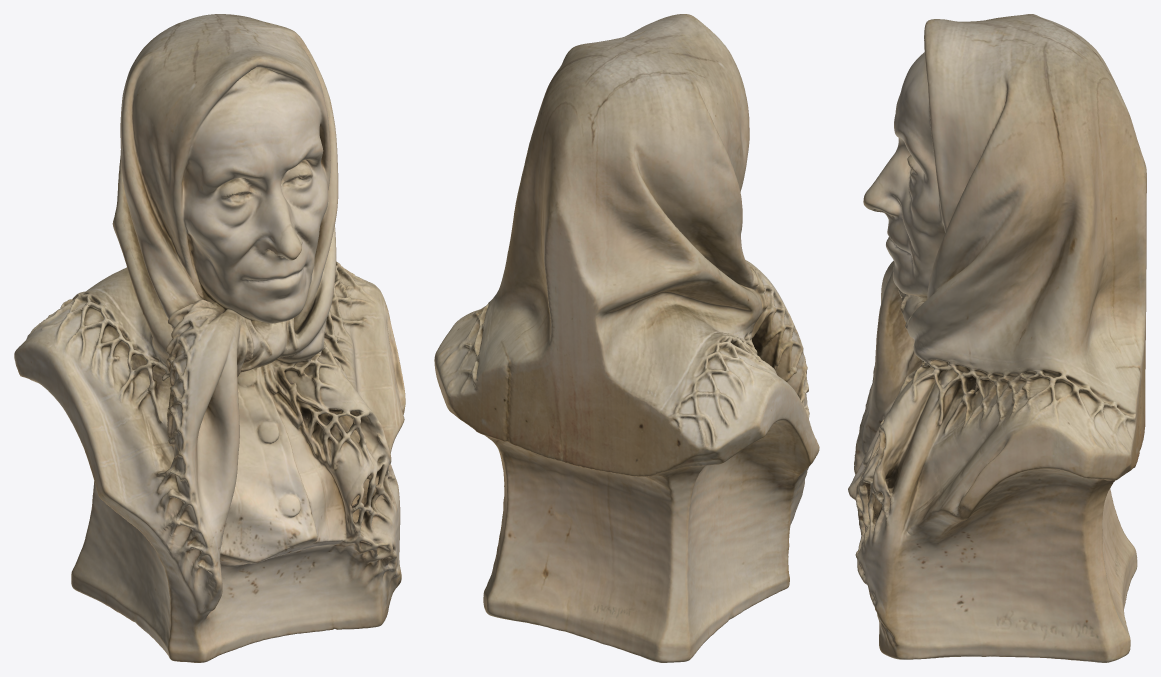
The model's file is preview.glb.
3 renders of one model, left to right at view 1: azimuth 30°, elevation 25°; view 2: azimuth 150°, elevation 25°; view 3: azimuth 270°, elevation 25°, orthographic. The views are drawn at different scales.
Parts seen in each view (by area): view 1: S_3048_MT_Rzezba_Brzegi_RCTXT_projZbr2SDiv; view 2: S_3048_MT_Rzezba_Brzegi_RCTXT_projZbr2SDiv; view 3: S_3048_MT_Rzezba_Brzegi_RCTXT_projZbr2SDiv.
Part boxes in pixels (box(x1,y1,x2,y2)): S_3048_MT_Rzezba_Brzegi_RCTXT_projZbr2SDiv: box(14, 14, 405, 662); S_3048_MT_Rzezba_Brzegi_RCTXT_projZbr2SDiv: box(434, 14, 819, 662); S_3048_MT_Rzezba_Brzegi_RCTXT_projZbr2SDiv: box(848, 14, 1146, 662).
Bounding box in the file's own units: 25.02 × 40.38 × 18.72.
Materials: 1 (1 with a texture image).
